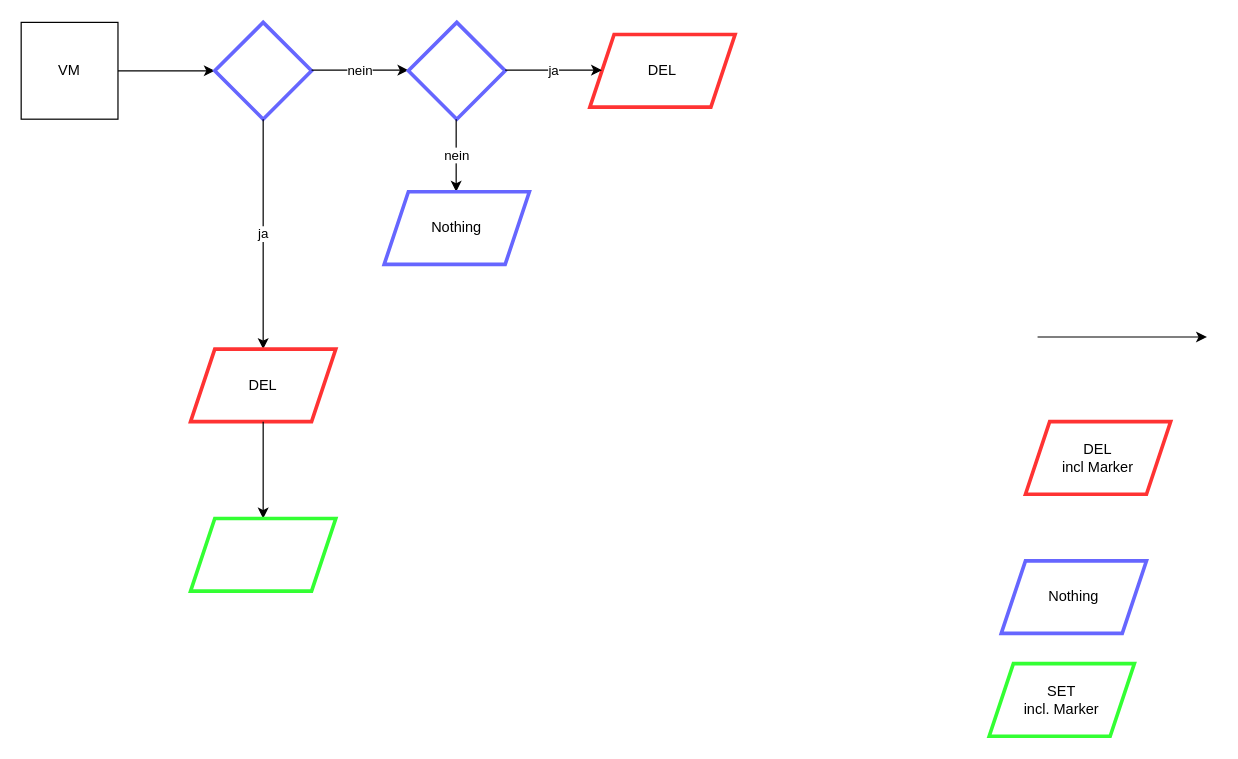
The diagram is 1238 pixels wide and 759 high, and some of its shapes have lost their labels. Each missing label, with the centre of its shape:
"Marker" goes at [456,70].
"Servicetag vor- handen" goes at [262,70].
"SET" goes at [262,554].
